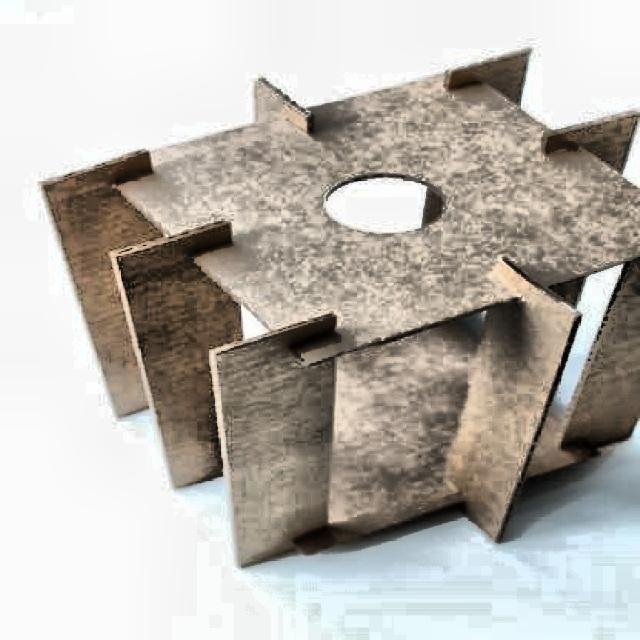Cardbox: (0, 16, 640, 587)
